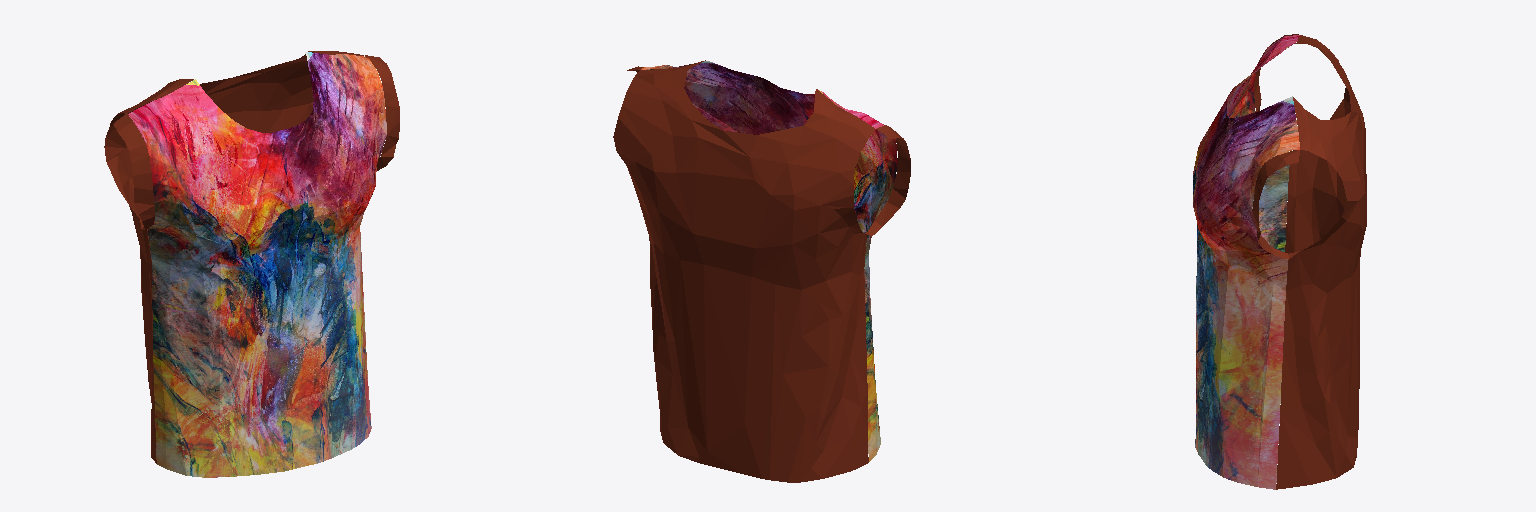
3 renders of one model, left to right at view 1: azimuth 30°, elevation 25°; view 2: azimuth 150°, elevation 25°; view 3: azimuth 270°, elevation 25°, orthographic.
Parts seen in each view (by area): view 1: T_shirt.007; view 2: T_shirt.007; view 3: T_shirt.007.
Part boxes in pixels (left/top/right/bottom): T_shirt.007: left=104, top=51, right=399, bottom=477; T_shirt.007: left=613, top=60, right=910, bottom=482; T_shirt.007: left=1193, top=34, right=1366, bottom=489.
Bounding box in the file's own units: 0.2935 × 0.3892 × 0.1639.
2 materials, 1 textured.